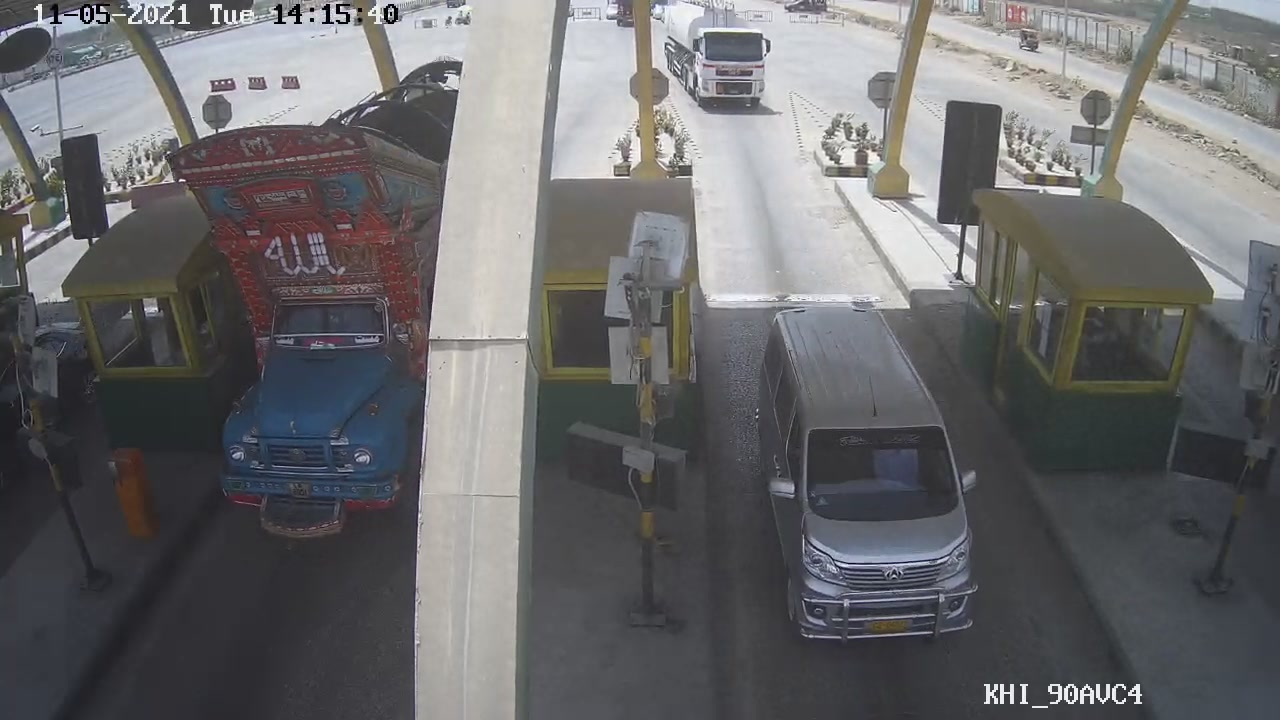F1: (754, 298, 982, 648)
